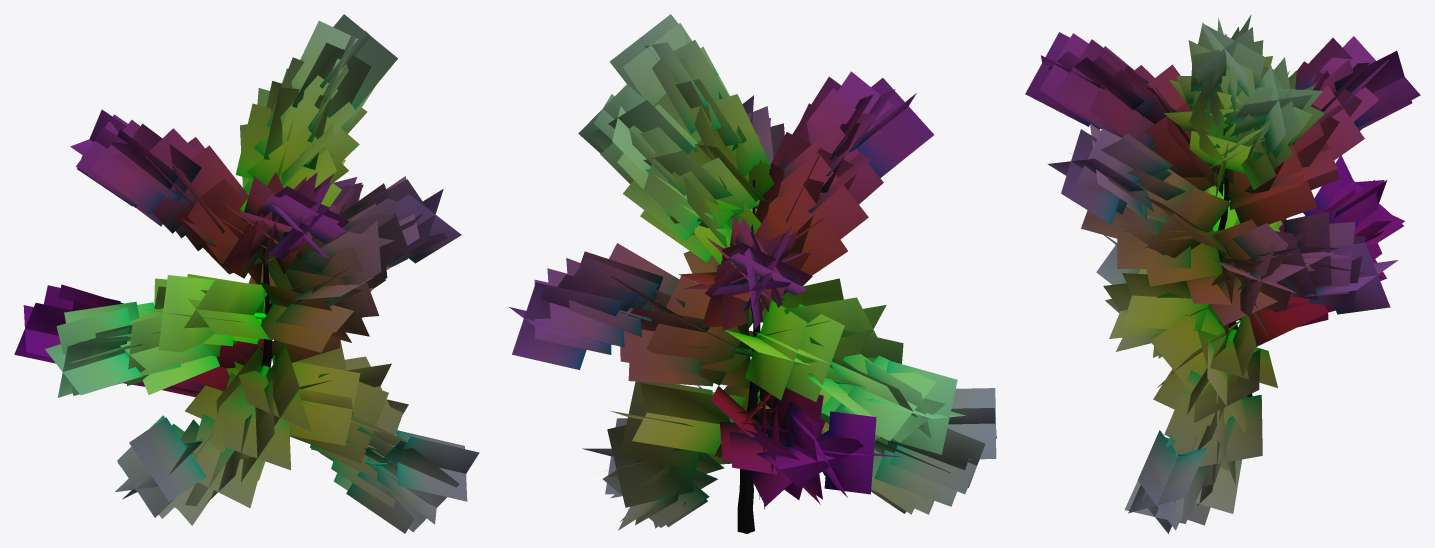
The model's file is URP_P6_Tree_10_LOD_1.fbx.
3 renders of one model, left to right at view 1: azimuth 30°, elevation 25°; view 2: azimuth 150°, elevation 25°; view 3: azimuth 270°, elevation 25°, orthographic. The views are drawn at different scales.
Parts seen in each view (by area): view 1: Tree_10_LOD_1; view 2: Tree_10_LOD_1; view 3: Tree_10_LOD_1.
Boxes of the visible parts, bbox=[...] form: Tree_10_LOD_1: bbox=[14, 14, 479, 533]; Tree_10_LOD_1: bbox=[509, 14, 996, 533]; Tree_10_LOD_1: bbox=[1025, 14, 1420, 533].
Size of the model in its own units: 906 by 1153 by 832.
